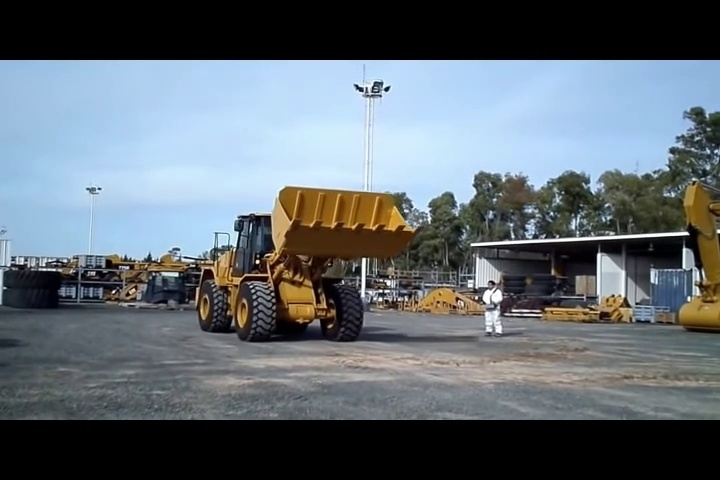excavator: (677, 177, 720, 335)
person: (480, 280, 506, 337)
wheel loader: (193, 183, 417, 340)
